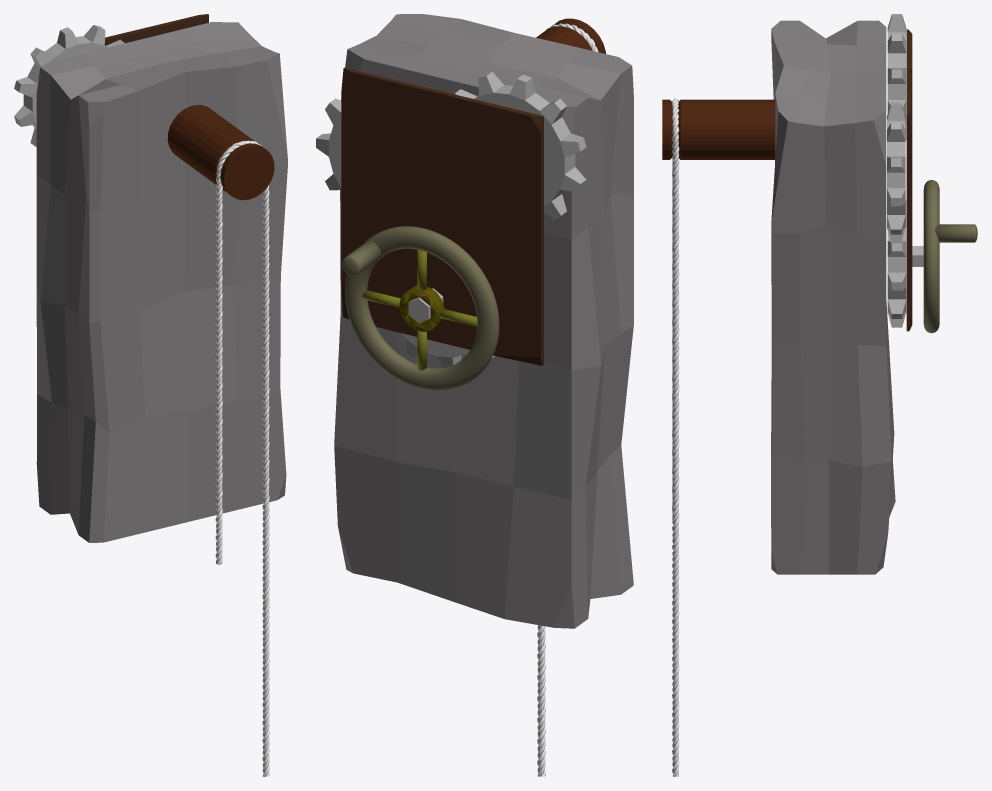
The model's file is FBX_ENV_RUIN_MECHANIK_ANIMATION_MitRad.fbx.
The picture shows the model from 3 angles, left to right: view 1: azimuth 30°, elevation 25°; view 2: azimuth 150°, elevation 25°; view 3: azimuth 270°, elevation 25°; orthographic projection. The views are drawn at different scales.
Visible parts, largest first — view 1: Cube.002, Circle.004, Circle.003; view 2: Cube.002, Circle.001, Circle.003, Circle.004, Circle.002; view 3: Cube.002, Circle.001, Circle.004, Circle.002, Circle.003.
Part boxes in pixels (bbox=[...]): Cube.002: bbox=[36, 14, 287, 542]; Circle.004: bbox=[215, 140, 269, 776]; Circle.003: bbox=[14, 25, 124, 146]; Cube.002: bbox=[334, 14, 633, 628]; Circle.001: bbox=[342, 226, 499, 390]; Circle.003: bbox=[454, 71, 586, 220]; Circle.004: bbox=[537, 23, 598, 776]; Circle.002: bbox=[316, 98, 341, 190]; Cube.002: bbox=[662, 20, 912, 574]; Circle.001: bbox=[887, 180, 977, 333]; Circle.004: bbox=[672, 98, 679, 776]; Circle.002: bbox=[887, 102, 905, 243]; Circle.003: bbox=[887, 14, 906, 140].
Size of the model in its own units: 69.24 by 204 by 81.75.
